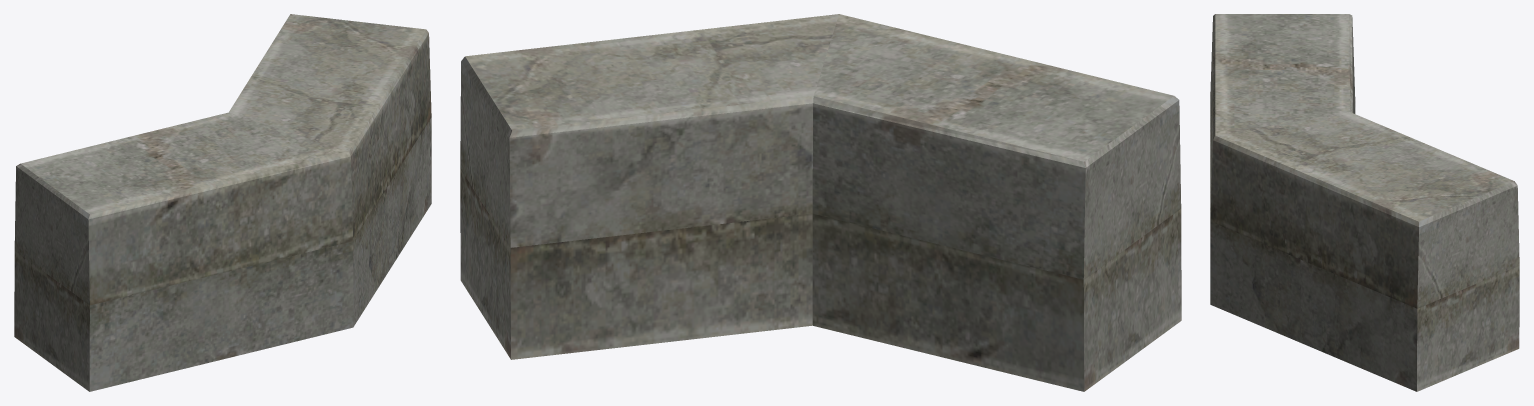
The model's file is bg_lut_lucastle_floorfence04_sm_jjy.FBX.
3 views of the same model, side by side, from view 1: azimuth 30°, elevation 25°; view 2: azimuth 150°, elevation 25°; view 3: azimuth 270°, elevation 25° (orthographic). The views are drawn at different scales.
Visible parts, largest first — view 1: bg_lut_lucastle_floorfence04_sm_jjy; view 2: bg_lut_lucastle_floorfence04_sm_jjy; view 3: bg_lut_lucastle_floorfence04_sm_jjy.
Part boxes in pixels (left/top/right/bottom): bg_lut_lucastle_floorfence04_sm_jjy: left=14, top=14, right=431, bottom=391; bg_lut_lucastle_floorfence04_sm_jjy: left=460, top=14, right=1181, bottom=391; bg_lut_lucastle_floorfence04_sm_jjy: left=1210, top=14, right=1519, bottom=391.
Bounding box in the file's own units: 166 × 61.51 × 102.
